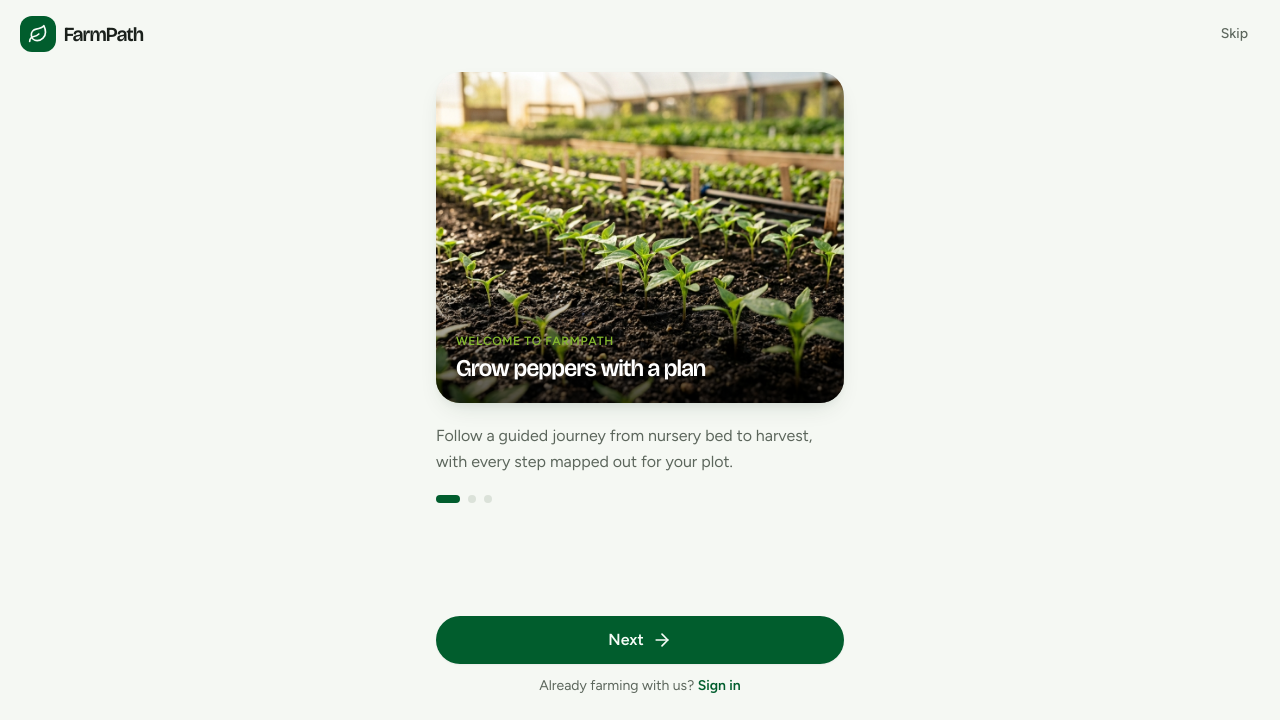
Onboarding carousel › advances through every step and reaches the sign-in screen
Check: the heading "Grow peppers with a plan" is shown, box [456, 354, 706, 382]
What coordinates should you click on to do the following:
click the button with test id "onboarding.next_button"
I would click on:
 (640, 640)
Its box is [436, 616, 844, 664].
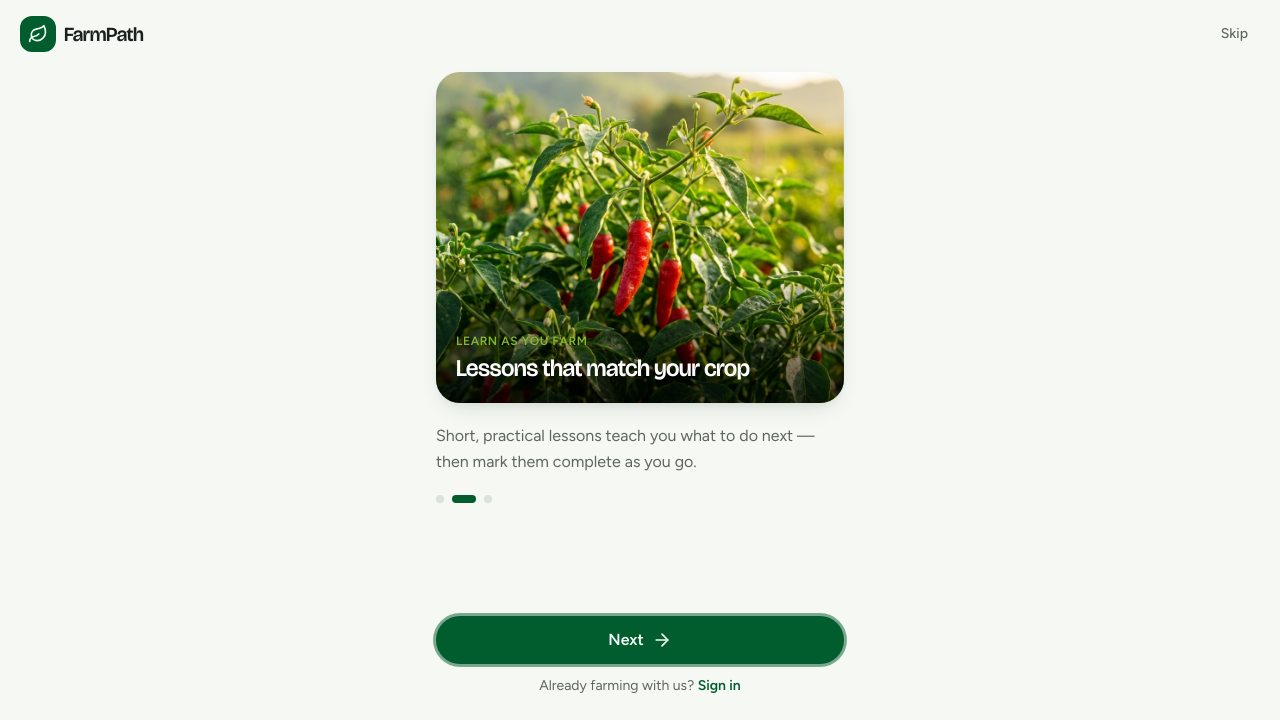
Check: the heading "Lessons that match your crop" is shown, box [456, 354, 750, 382]
What coordinates should you click on to do the following:
click the button with test id "onboarding.next_button"
I would click on:
 (640, 640)
Its box is [436, 616, 844, 664].
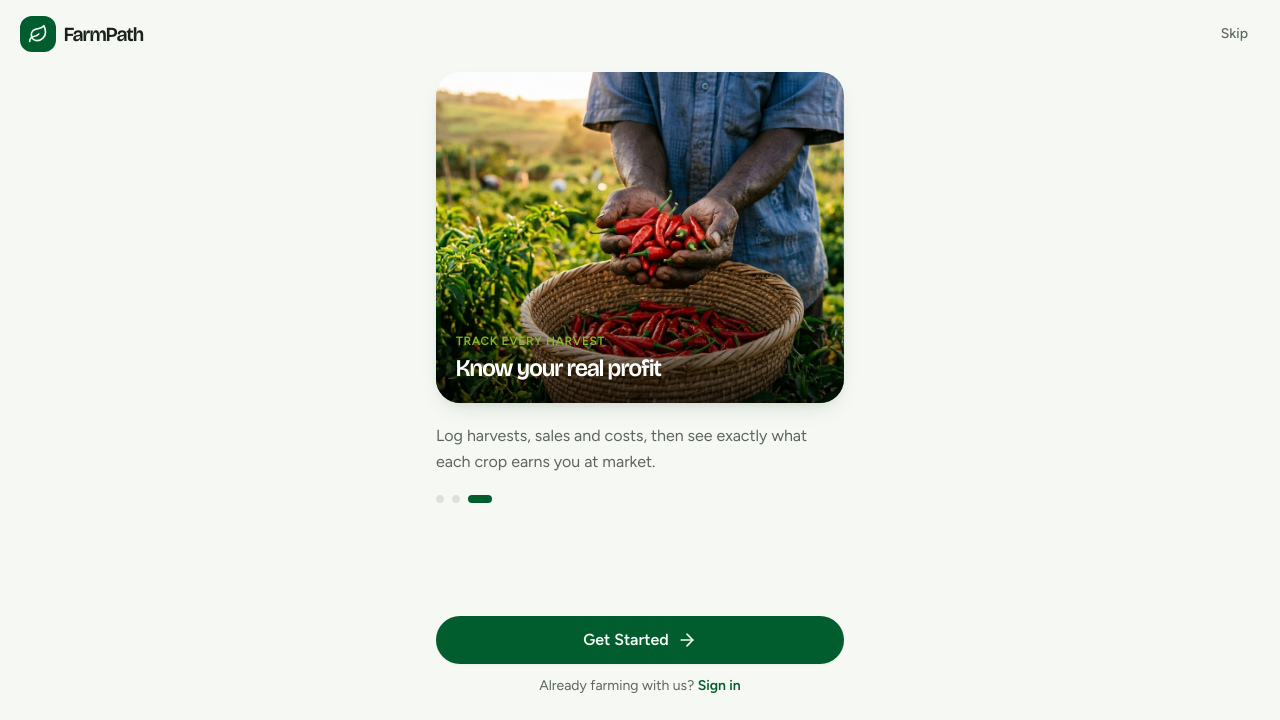
Check: the heading "Know your real profit" is shown, box [456, 354, 661, 382]
Check: the link with test id "onboarding.get_started_button" is shown
What coordinates should you click on to do the following:
click the link with test id "onboarding.get_started_button"
I would click on:
 (640, 640)
Its box is [436, 616, 844, 664].
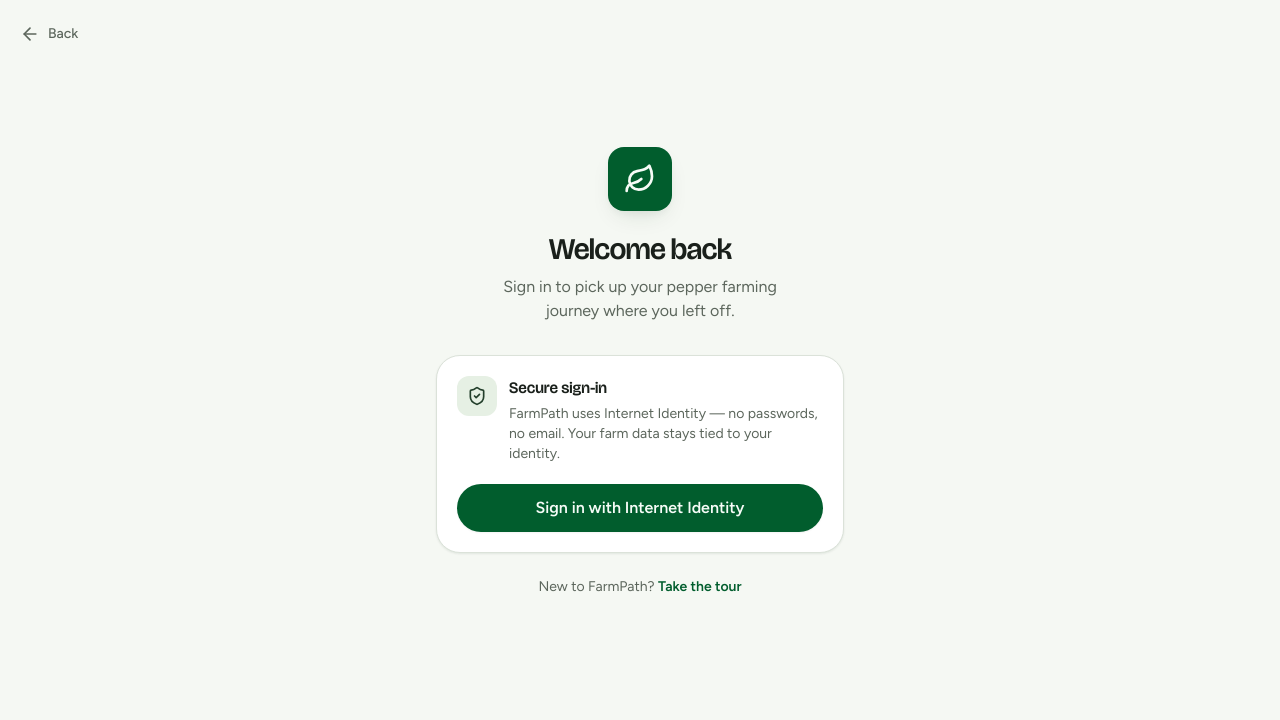
Check: the button with test id "signin.submit_button" is shown, box [457, 484, 823, 532]
